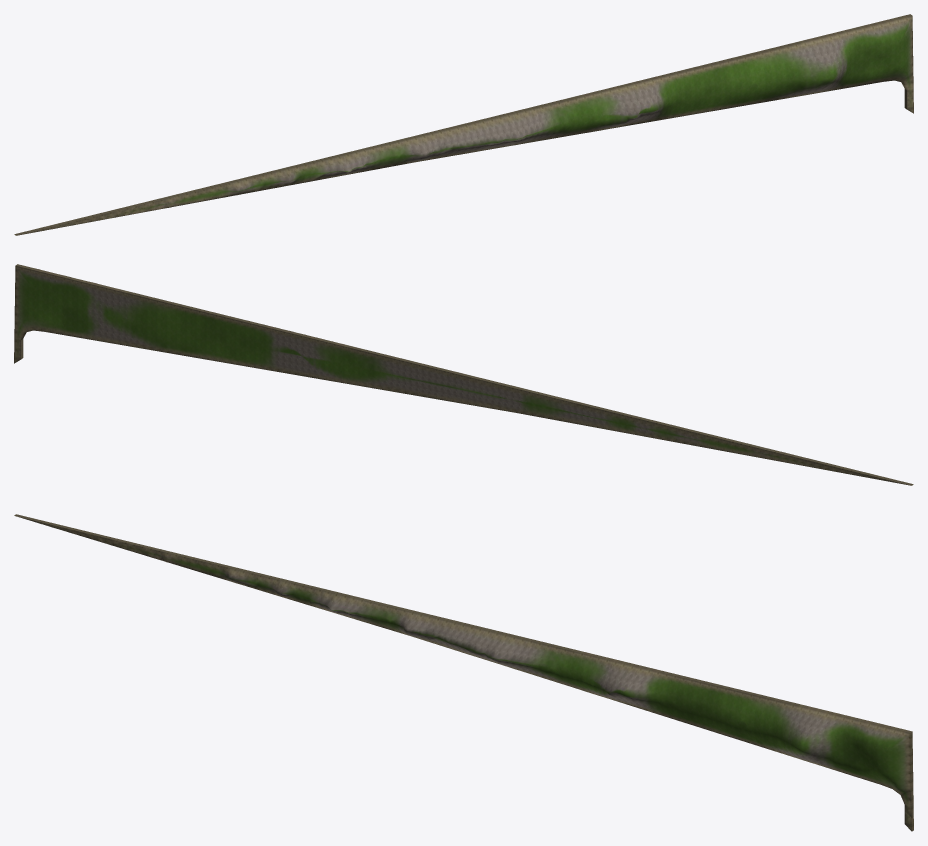
Rendered from green_island_003.obj.
3 views of the same model, one above another, from view 1: azimuth 30°, elevation 25°; view 2: azimuth 150°, elevation 25°; view 3: azimuth 330°, elevation 25° (orthographic).
Visible parts, largest first — view 1: terrain_surface, shoreline_skirt; view 2: seabed_cap, shoreline_skirt; view 3: terrain_surface, shoreline_skirt.
Part boxes in pixels (left/top/right/bottom): terrain_surface: left=19, top=15, right=913, bottom=235; shoreline_skirt: left=14, top=14, right=911, bottom=235; seabed_cap: left=14, top=265, right=908, bottom=485; shoreline_skirt: left=16, top=264, right=913, bottom=485; terrain_surface: left=16, top=516, right=911, bottom=831; shoreline_skirt: left=14, top=514, right=913, bottom=831.
Size of the model in its own units: 1273 by 133 by 40.84.
1 material, 1 textured.
